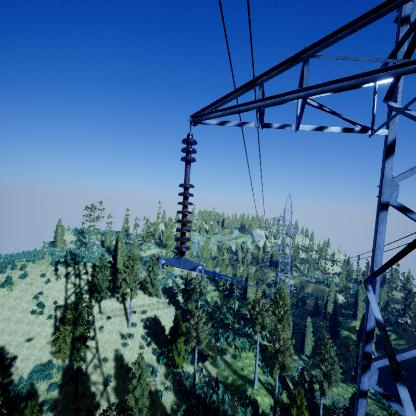insulator: (171, 136, 200, 257)
